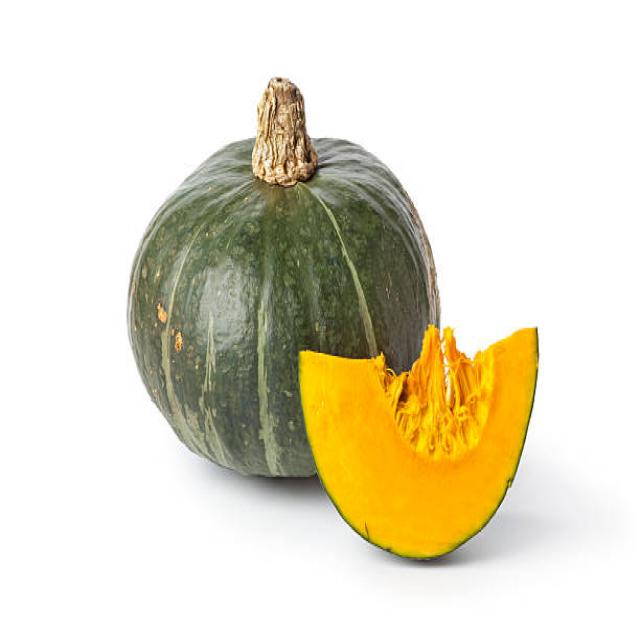Pumpkin: (124, 101, 438, 348), (291, 334, 553, 564)
